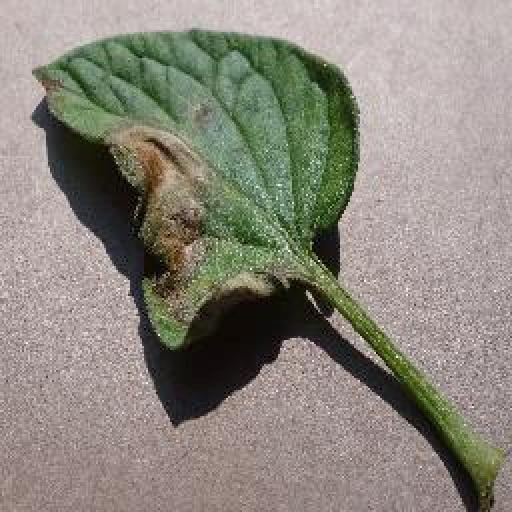disease_tomato: (33, 26, 359, 358)
